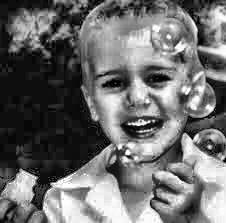happy: (69, 6, 196, 166)
